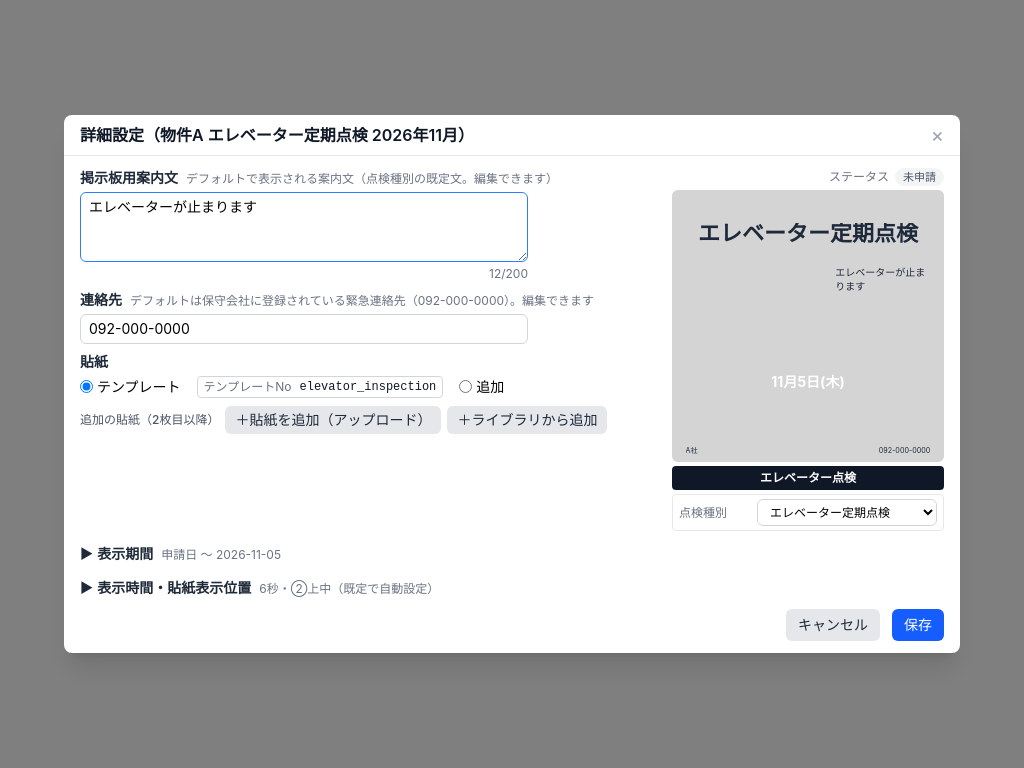
Test: RowDetailModal の追記表示と点検種別の変更（修正依頼1029） › 移し先の点検がこの月に申請済みなら移さずに知らせる
Select "リモート点検" in the dropdown labelled "点検種別". click: (847, 513)
box: 757,499 -> 937,526
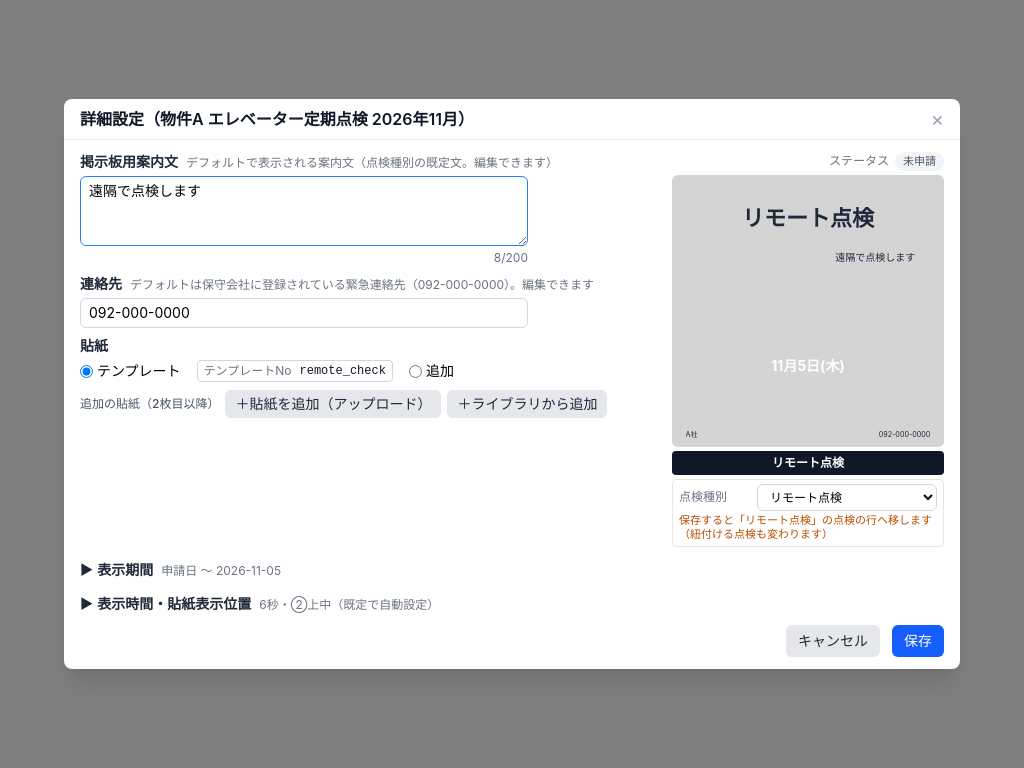
Click the button "保存". click: (918, 641)
box: 892,625 -> 944,657
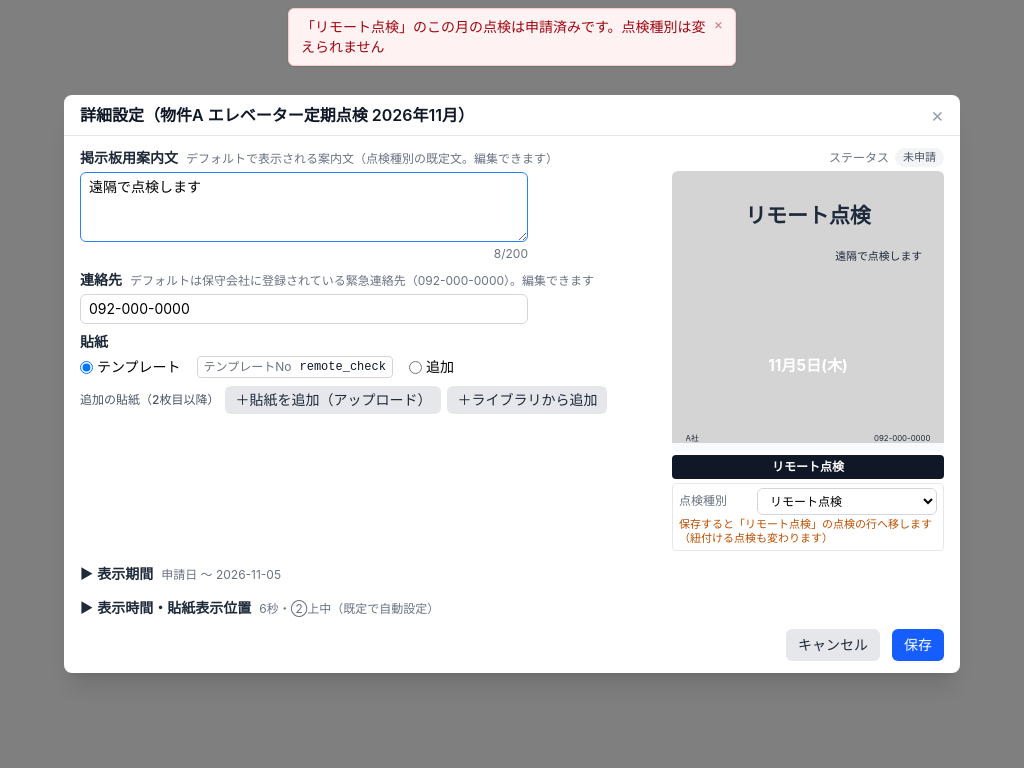
Now the text "「リモート点検」のこの月の点検は申請済みです。点検種別は変えられません" is shown, box 301,17 -> 706,57
